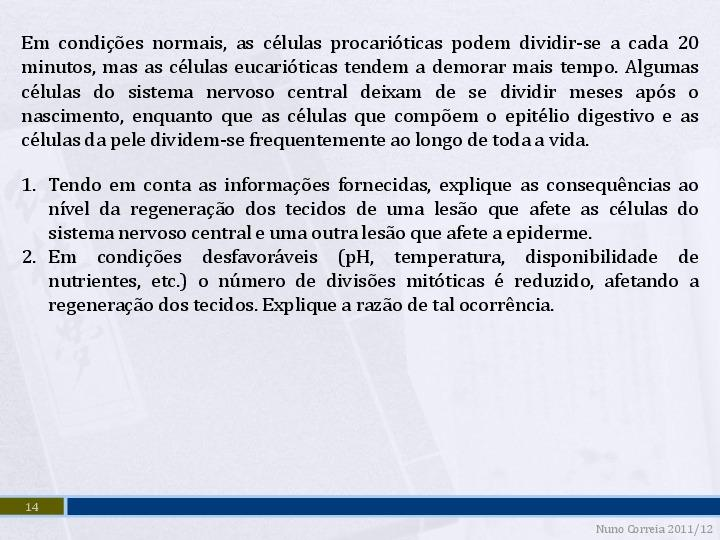paragraph: (5, 25, 716, 342)
